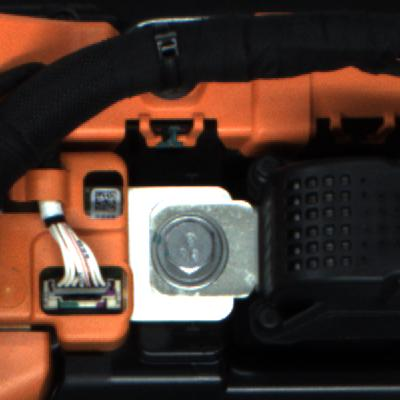nut_b: (146, 209, 231, 294)
